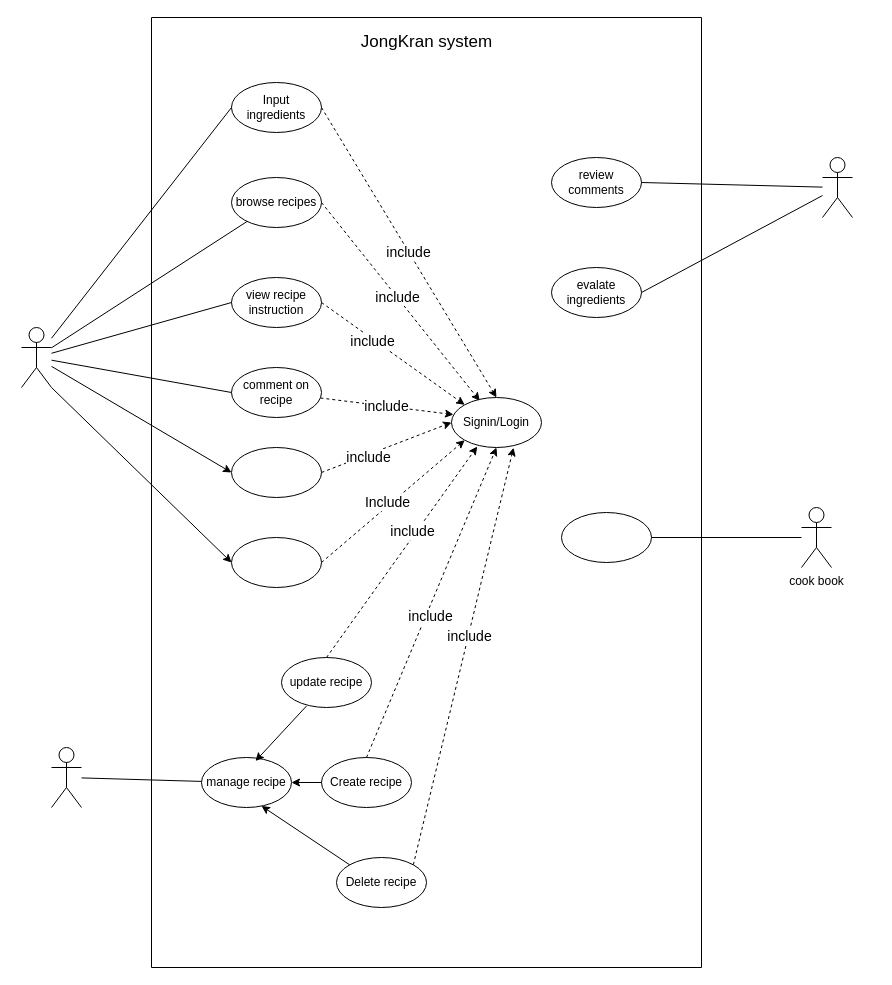
This 892x985 diagram has some shape labels left out. Here are the shapes that lost their labels. From the top down, the centre of each, then its label:
At pixel 837 187: "Data analyzer".
At pixel 36 357: "Cooker".
At pixel 276 472: "Add to favorite".
At pixel 606 537: "provide recipe".
At pixel 276 562: "View history".
At pixel 66 777: "admin".
